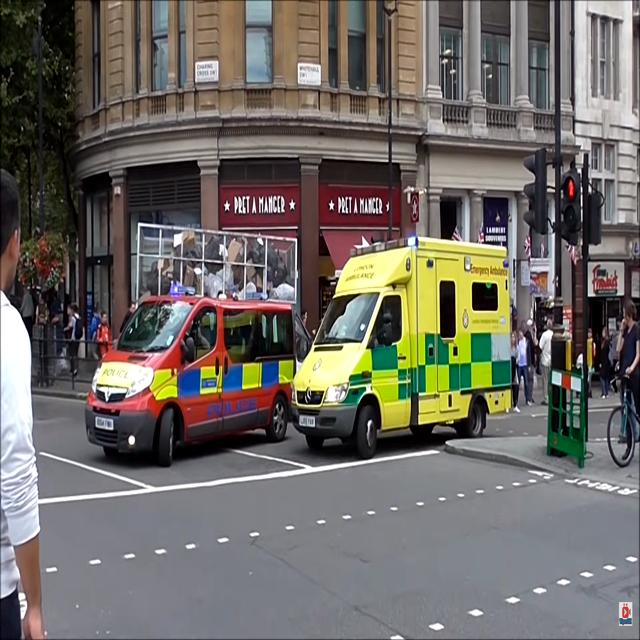emergency-vehicles: (292, 227, 530, 454), (73, 277, 290, 470)
